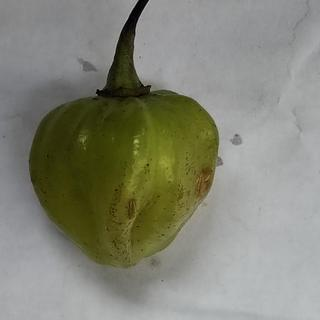Defect: (192, 162, 214, 206), (121, 191, 141, 223)
